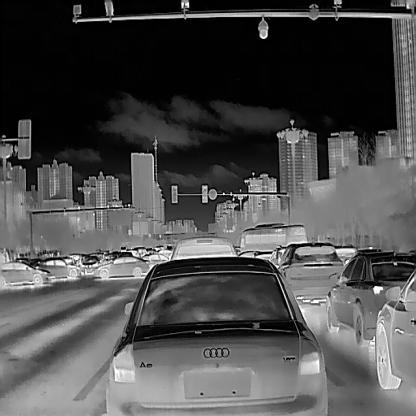car: (105, 256, 326, 415), (325, 251, 415, 345), (375, 268, 416, 388), (277, 242, 345, 303), (236, 221, 308, 253), (0, 260, 55, 285), (93, 254, 149, 277), (33, 256, 79, 279), (80, 254, 98, 275)
